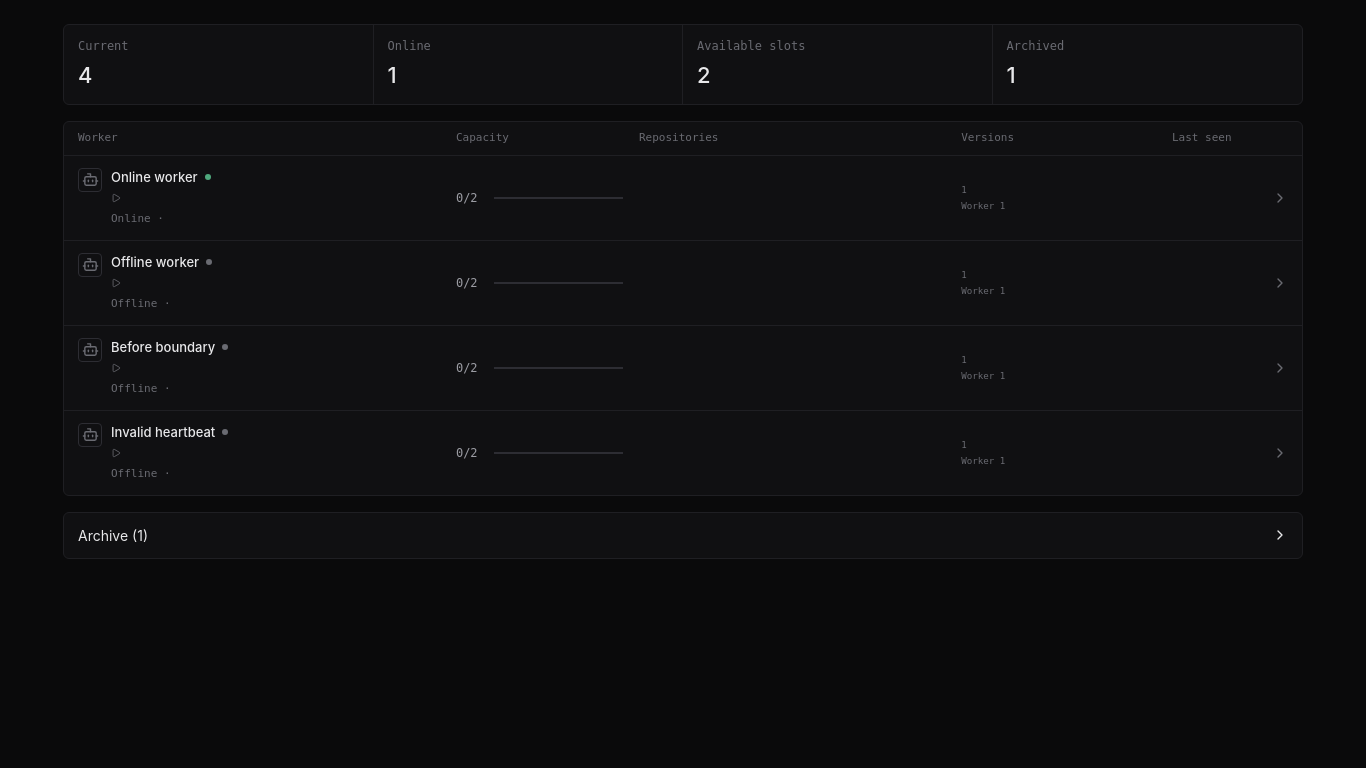
keeps online and recently offline workers current, archiving at exactly seven days
expect the text "4" is shown: met, box [78, 62, 92, 88]
expect the text "2" is shown: met, box [697, 62, 710, 88]
Step 1. Click the button "Archive (1)" → (108, 535), box [63, 512, 1303, 558]
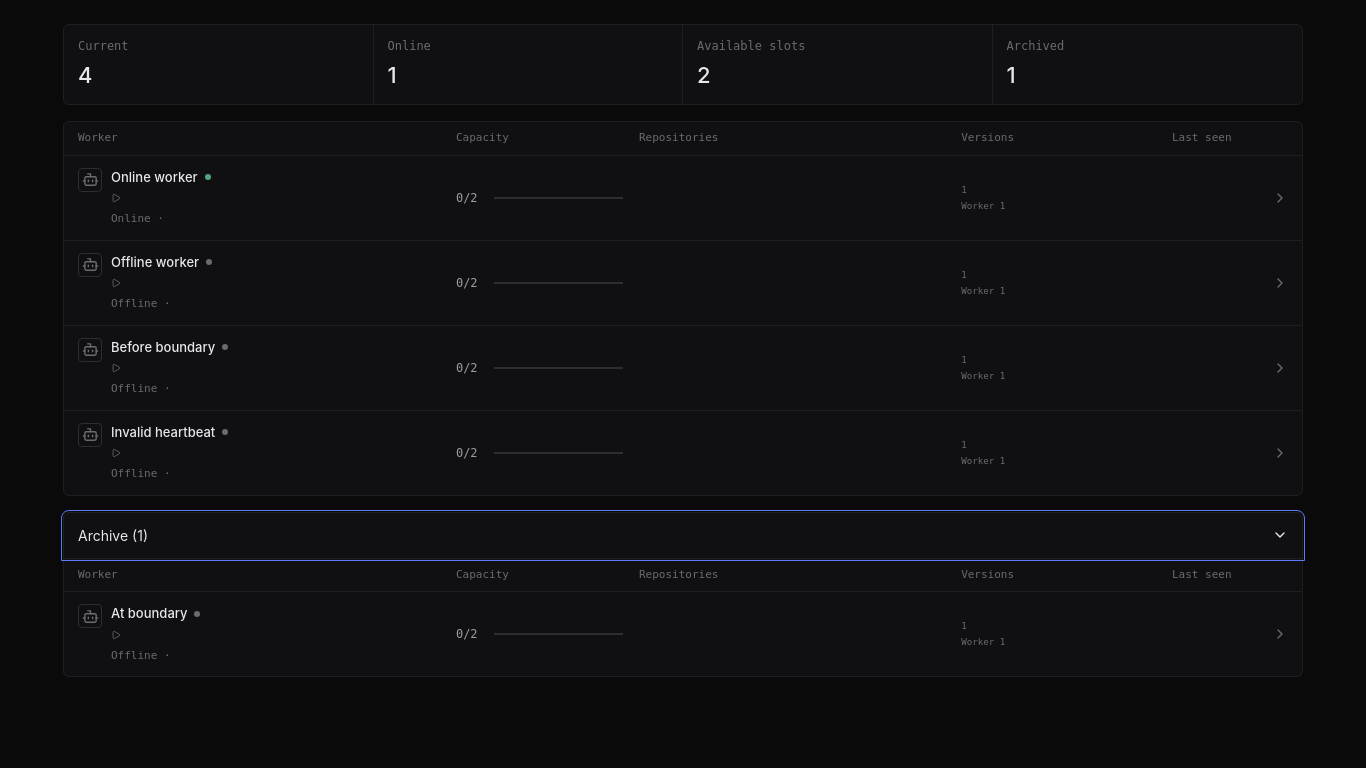
expect the text "At boundary" is shown: met, box [111, 604, 188, 624]
